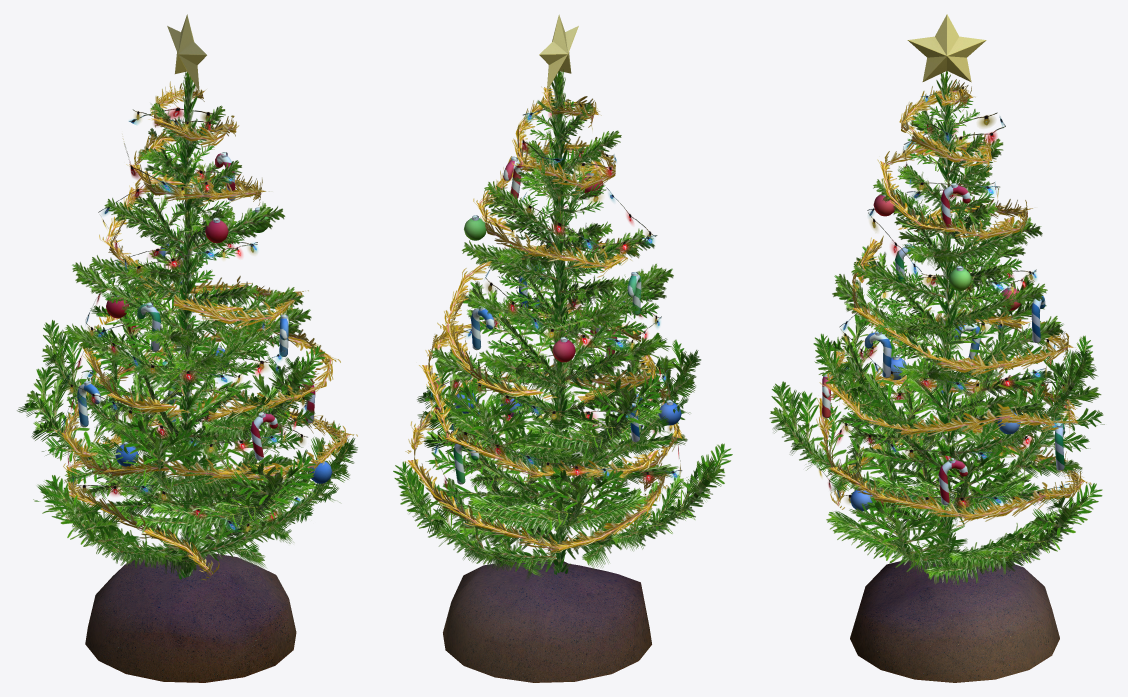
Rendered from Christmas tree 2 .glb.
The picture shows the model from 3 angles, left to right: view 1: azimuth 30°, elevation 25°; view 2: azimuth 150°, elevation 25°; view 3: azimuth 270°, elevation 25°; orthographic projection.
Parts seen in each view (by area): view 1: Tree_lod1_Prueba_01_LP_default_0; view 2: Tree_lod1_Prueba_01_LP_default_0; view 3: Tree_lod1_Prueba_01_LP_default_0.
Boxes of the visible parts, x1=… form: Tree_lod1_Prueba_01_LP_default_0: x1=17, y1=14, x2=357, y2=682; Tree_lod1_Prueba_01_LP_default_0: x1=393, y1=14, x2=732, y2=682; Tree_lod1_Prueba_01_LP_default_0: x1=769, y1=14, x2=1104, y2=682.
Bounding box in the file's own units: 1.67 × 3.31 × 1.7.
6 materials, 6 textured.
